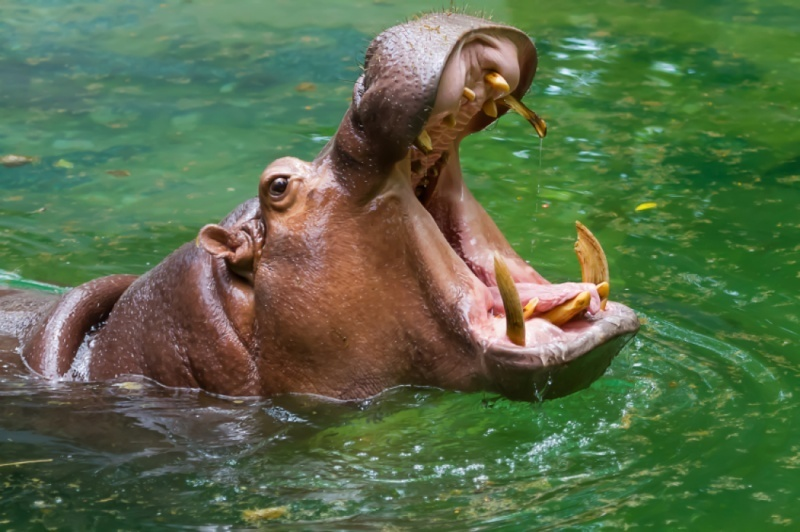hipopotamo: (2, 2, 653, 431)
